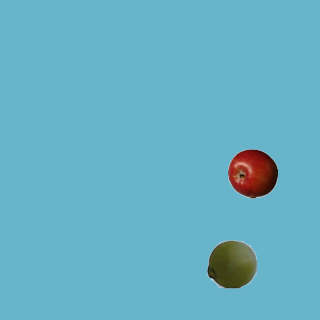Apple Braeburn: (227, 148, 277, 198)
Grape White 4: (206, 238, 256, 288)
